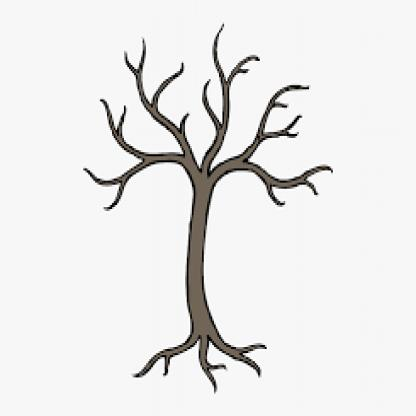root_only: (134, 327, 268, 395)
trunk_reflex: (183, 196, 217, 330)
